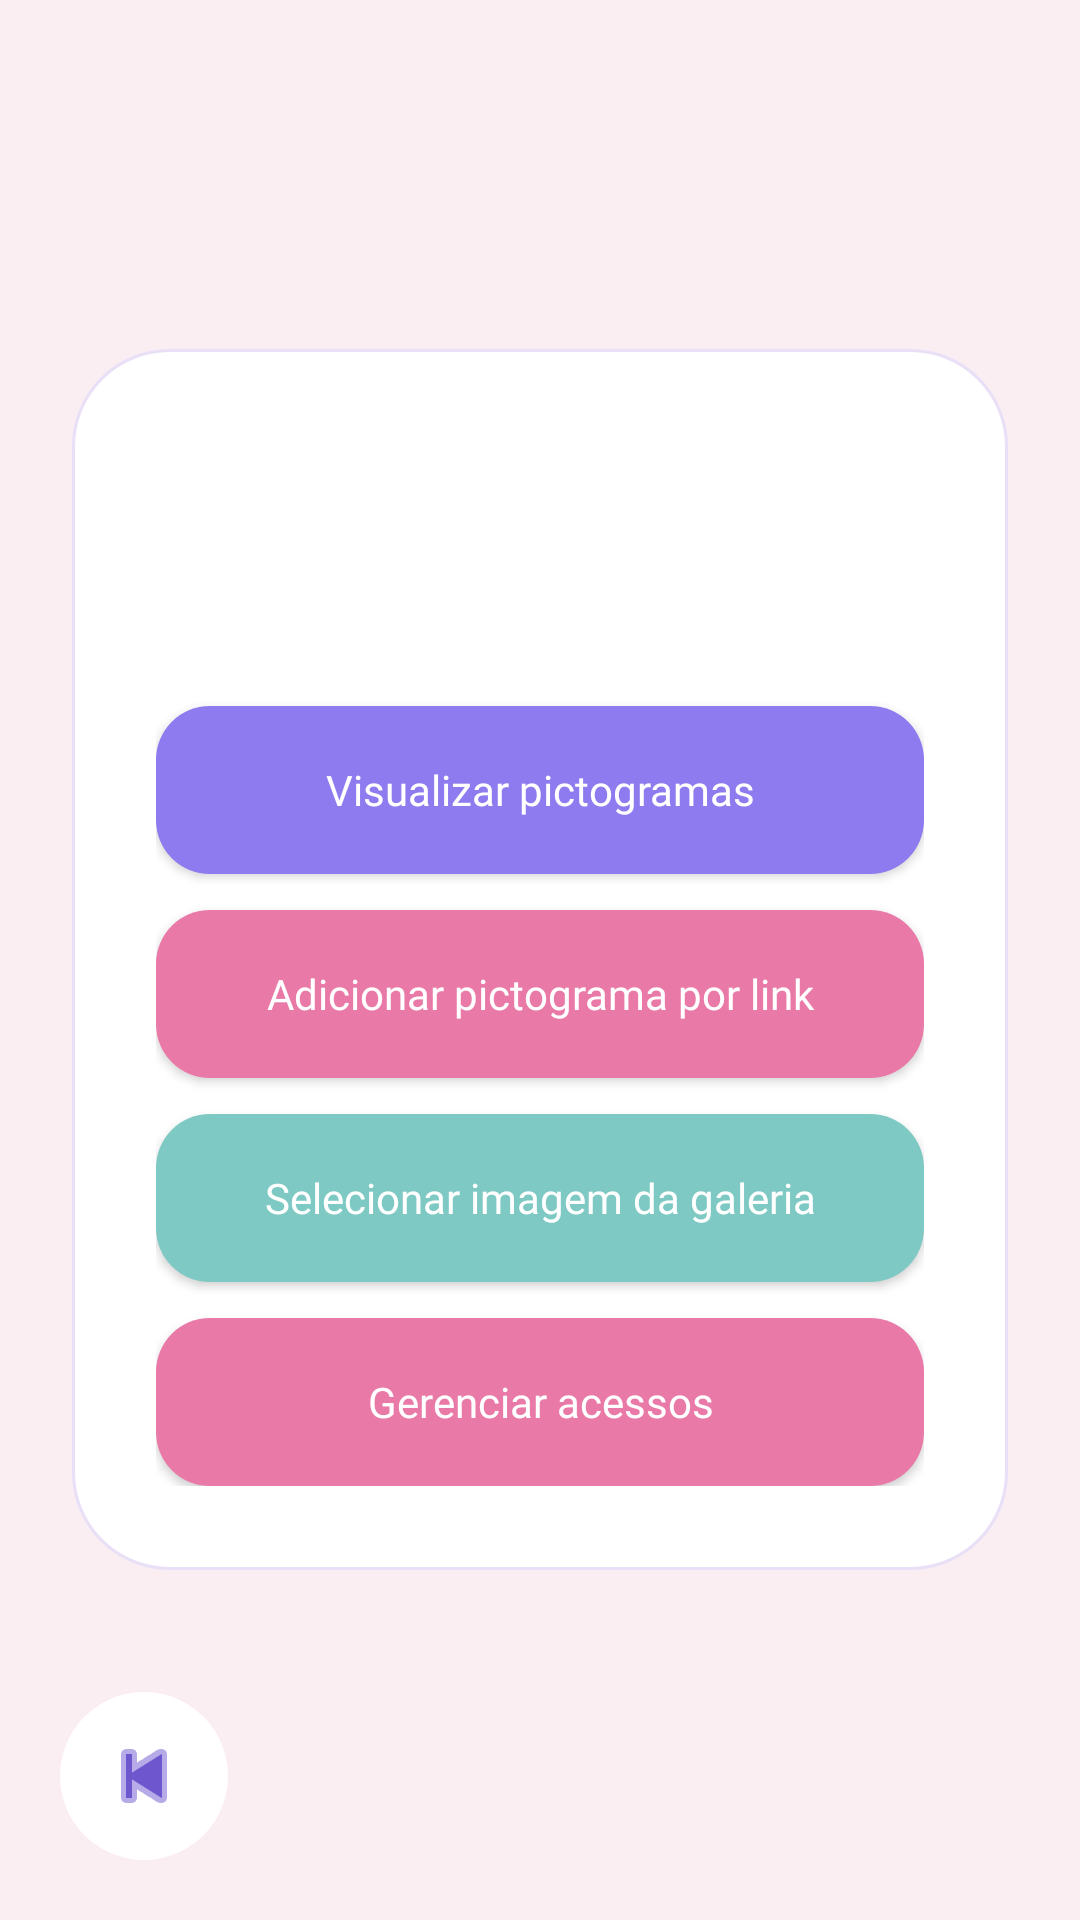

Icons on this 1080w x 1920h Android screen, each with its box as {"left": x1, "top": y1, "right": x2, "bottom": y2}:
previous: {"left": 121, "top": 1749, "right": 167, "bottom": 1803}
